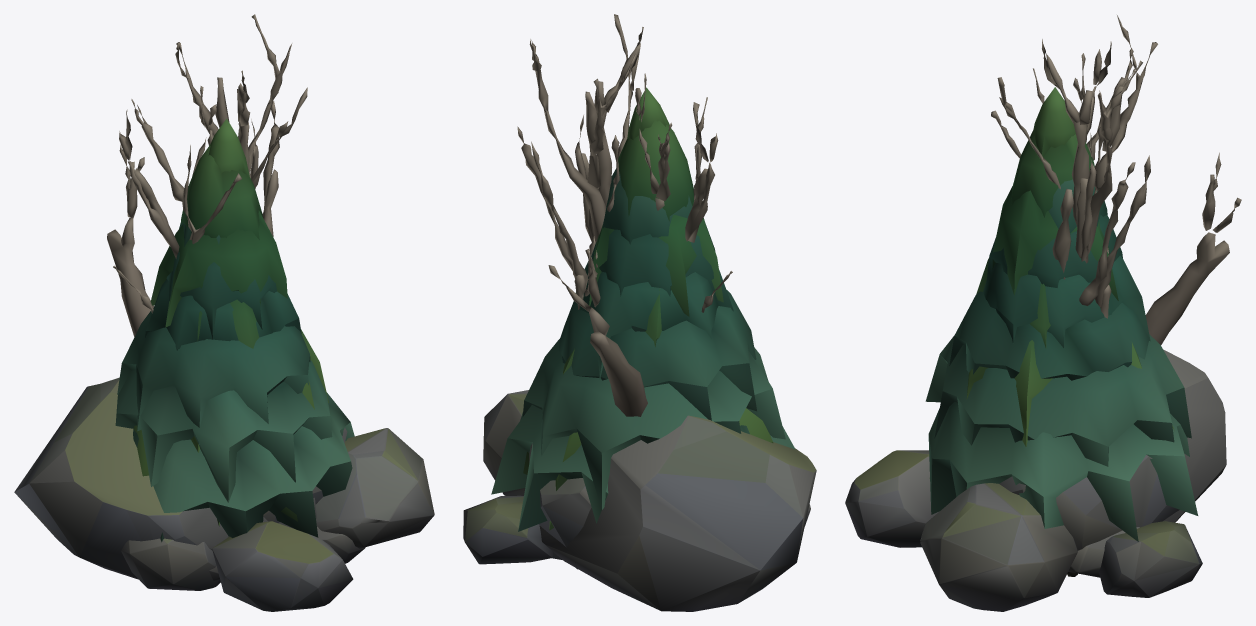
File: nature.glb
3 views of the same model, side by side, from view 1: azimuth 30°, elevation 25°; view 2: azimuth 150°, elevation 25°; view 3: azimuth 270°, elevation 25° (orthographic). The views are drawn at different scales.
Visible parts, largest first — view 1: tree_b, rock_e, tree_a, dead_tree_large, rock_c, dead_tree_medium; view 2: rock_e, tree_b, tree_a, dead_tree_large, dead_tree_medium, rock_c, dead_tree_small; view 3: tree_b, rock_e, tree_a, dead_tree_medium, dead_tree_large, rock_c, rock_a.
Part boxes in pixels (box(x1,y1,x2,y2)): tree_b: box(115, 222, 354, 542); rock_e: box(14, 377, 434, 611); tree_a: box(133, 118, 328, 526); dead_tree_large: box(119, 14, 307, 258); rock_c: box(121, 428, 365, 590); dead_tree_medium: box(107, 101, 279, 336); rock_e: box(463, 390, 816, 611); tree_b: box(491, 168, 795, 531); tree_a: box(523, 87, 773, 530); dead_tree_large: box(529, 14, 718, 242); dead_tree_medium: box(517, 115, 647, 416); rock_c: box(529, 443, 810, 569); dead_tree_small: box(574, 250, 732, 312); tree_b: box(925, 179, 1198, 541); rock_e: box(845, 349, 1226, 611); tree_a: box(929, 87, 1174, 478); dead_tree_medium: box(1052, 127, 1241, 344); dead_tree_large: box(991, 15, 1157, 576); rock_c: box(999, 455, 1179, 571); rock_a: box(1068, 527, 1139, 577).
Size of the model in its own units: 2.46 by 3.37 by 2.3.
